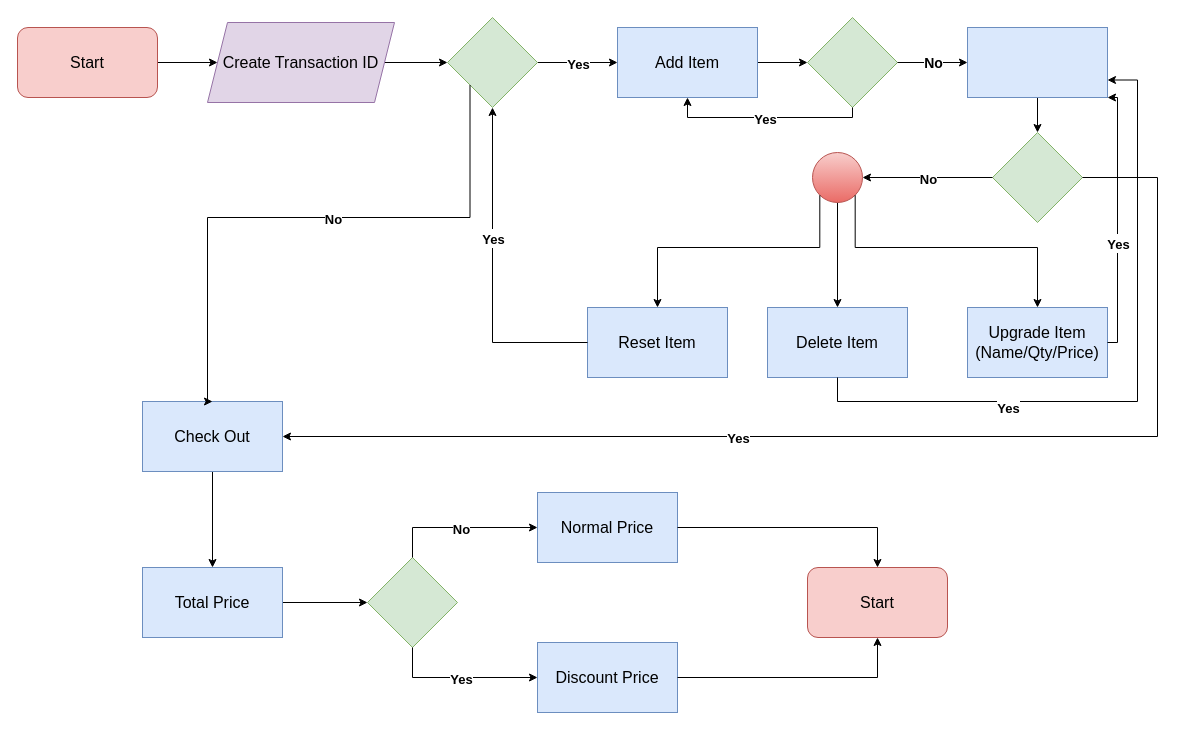
The diagram is 1183 pixels wide and 730 high, and some of its shapes have lost their labels. The box of each missing label's shape, as (x1, y1, x2, y2) in pixels:
Add Item?: (446, 16, 538, 108)
Add More?: (806, 16, 898, 108)
Check Order: (966, 26, 1108, 98)
Discount?: (366, 556, 458, 648)
Order Correct?: (992, 132, 1082, 222)
